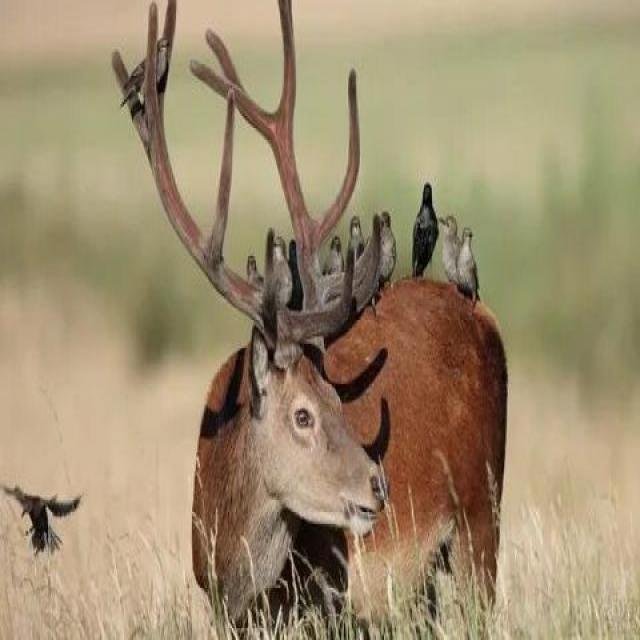deer: (109, 10, 518, 619)
